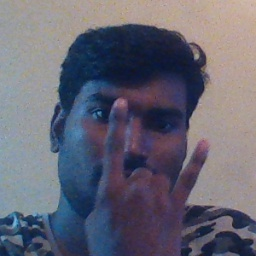V: (80, 96, 210, 256)
